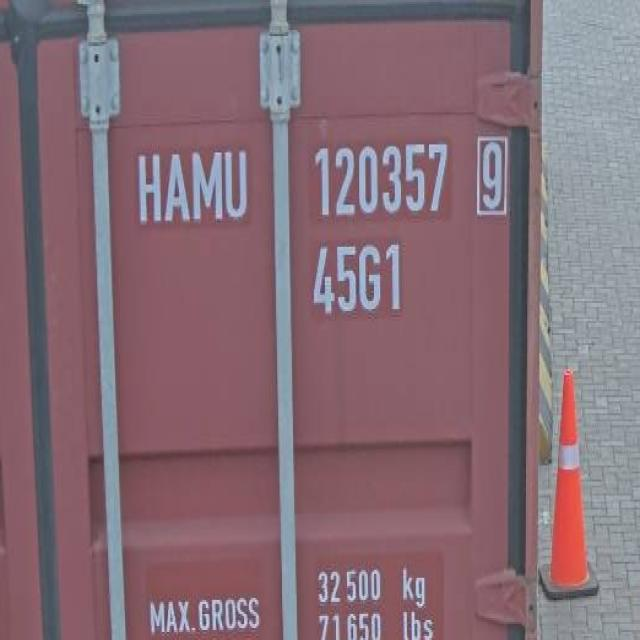dv: (472, 128, 508, 220)
owner: (130, 135, 256, 236)
serial: (306, 128, 451, 226)
size: (308, 238, 409, 316)
